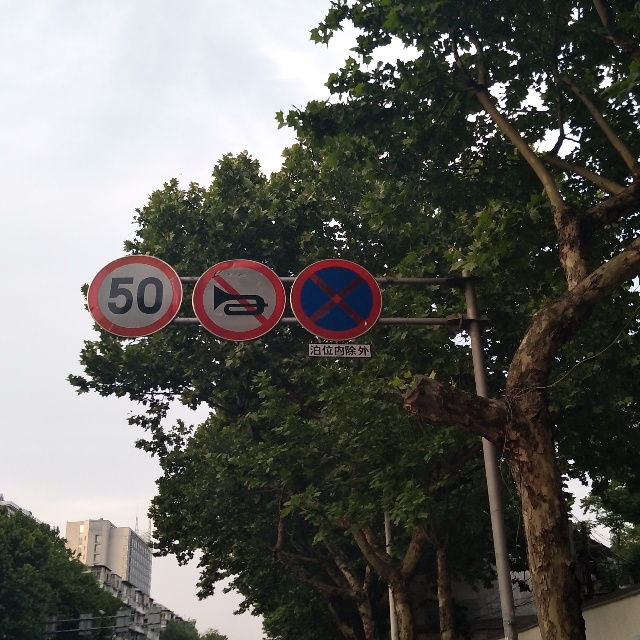nohonk: (195, 253, 284, 340)
stop: (293, 259, 376, 338)
